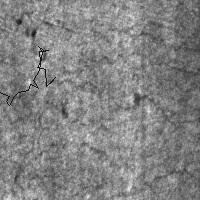crazing: (6, 74, 116, 190), (75, 18, 199, 72), (0, 46, 55, 105)
